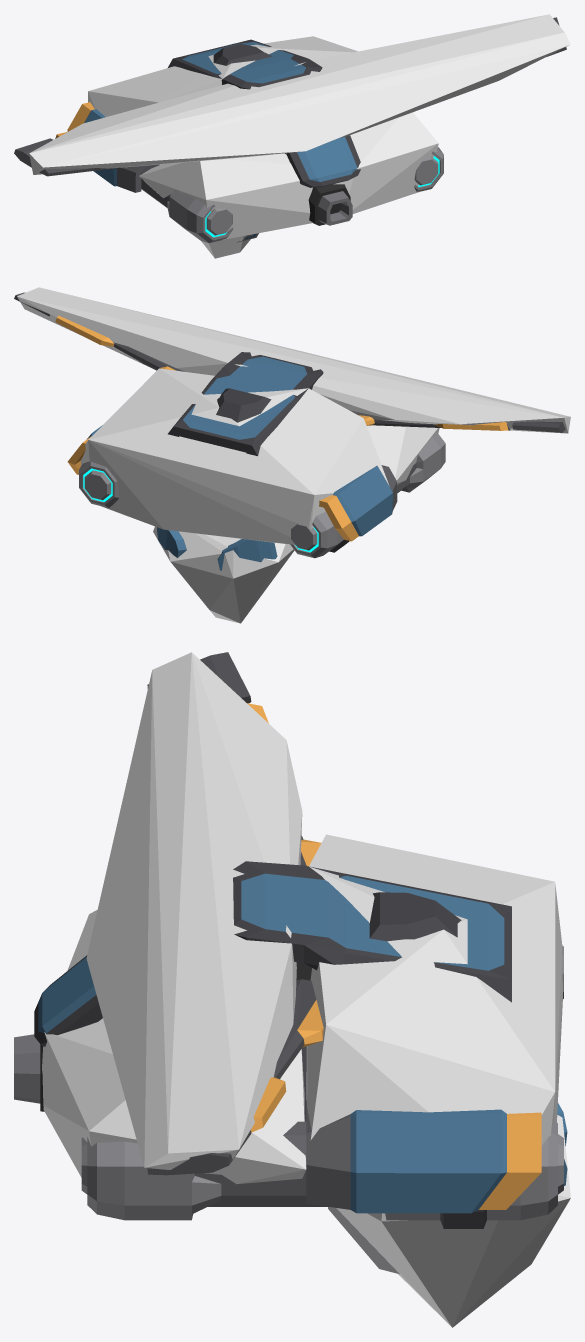
The model's file is SM_Veh_Drone_Repair_01.fbx.
3 renders of one model, top to bottom at view 1: azimuth 30°, elevation 25°; view 2: azimuth 150°, elevation 25°; view 3: azimuth 270°, elevation 25°, orthographic. The views are drawn at different scales.
Parts seen in each view (by area): view 1: SM_Veh_Drone_Repair_01_ConvexHulls, SM_Veh_Drone_Repair_01_LOD0; view 2: SM_Veh_Drone_Repair_01_ConvexHulls, SM_Veh_Drone_Repair_01_LOD0; view 3: SM_Veh_Drone_Repair_01_ConvexHulls, SM_Veh_Drone_Repair_01_LOD0.
Part boxes in pixels (<box>): SM_Veh_Drone_Repair_01_ConvexHulls: <box>29,14,570,258</box>; SM_Veh_Drone_Repair_01_LOD0: <box>14,17,566,243</box>; SM_Veh_Drone_Repair_01_ConvexHulls: <box>17,287,570,623</box>; SM_Veh_Drone_Repair_01_LOD0: <box>14,292,565,570</box>; SM_Veh_Drone_Repair_01_ConvexHulls: <box>42,652,570,1327</box>; SM_Veh_Drone_Repair_01_LOD0: <box>14,652,567,1274</box>.
Bounding box in the file's own units: 201 × 433 × 166.
1 material, 1 textured.
